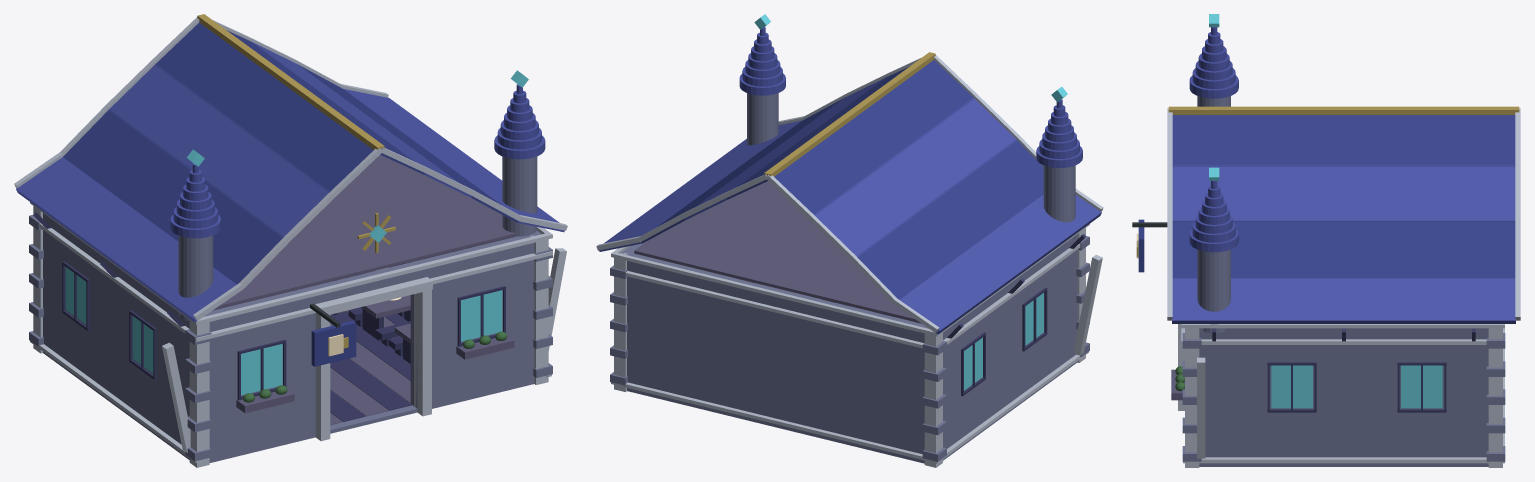
File: Tavern.glb
3 renders of one model, left to right at view 1: azimuth 30°, elevation 25°; view 2: azimuth 150°, elevation 25°; view 3: azimuth 270°, elevation 25°, orthographic. The views are drawn at different scales.
Visible parts, largest first — view 1: Tavern_095_Ceiling, Tavern_002_Side, Tavern_257_ProfileRoof, Tavern_254_ProfileRoof, Tavern_040_FrontWing, Tavern_260_ProfileRoof, Tavern_003_FrontWing, Tavern_263_ProfileRoof, Tavern_275_ProfileRoof, Tavern_085_FrontCourse, Tavern_290_ObservatoryTurret, Tavern_278_Ridge (+32 smaller); view 2: Tavern_001_Rear, Tavern_095_Ceiling, Tavern_002_Side, Tavern_257_ProfileRoof, Tavern_260_ProfileRoof, Tavern_254_ProfileRoof, Tavern_263_ProfileRoof, Tavern_275_ProfileRoof, Tavern_086_RearCourse, Tavern_078_RearCourse, Tavern_278_Ridge, Tavern_082_RearCourse (+13 smaller); view 3: Tavern_039_Side, Tavern_269_ProfileRoof, Tavern_272_ProfileRoof, Tavern_266_ProfileRoof, Tavern_275_ProfileRoof, Tavern_278_Ridge, Tavern_080_SideCourse, Tavern_290_ObservatoryTurret, Tavern_054_SideWindow, Tavern_060_SideWindow, Tavern_084_SideCourse, Tavern_088_SideCourse (+10 smaller).
Boxes of the visible parts, box(x1,y1,x2,y2) form: Tavern_095_Ceiling: box(213, 154, 516, 310); Tavern_002_Side: box(43, 214, 206, 456); Tavern_257_ProfileRoof: box(109, 64, 329, 237); Tavern_254_ProfileRoof: box(155, 22, 373, 192); Tavern_040_FrontWing: box(410, 231, 541, 408); Tavern_260_ProfileRoof: box(63, 109, 283, 284); Tavern_003_FrontWing: box(205, 285, 324, 460); Tavern_263_ProfileRoof: box(16, 157, 236, 322); Tavern_275_ProfileRoof: box(343, 89, 564, 232); Tavern_085_FrontCourse: box(193, 233, 552, 324); Tavern_290_ObservatoryTurret: box(502, 156, 537, 238); Tavern_278_Ridge: box(197, 14, 384, 149); Tavern_001_Rear: box(620, 251, 928, 463); Tavern_095_Ceiling: box(634, 181, 920, 323); Tavern_002_Side: box(943, 235, 1076, 459); Tavern_257_ProfileRoof: box(814, 98, 1016, 256); Tavern_260_ProfileRoof: box(856, 139, 1043, 299); Tavern_254_ProfileRoof: box(774, 60, 974, 215); Tavern_263_ProfileRoof: box(900, 194, 1101, 334); Tavern_275_ProfileRoof: box(599, 120, 801, 251); Tavern_086_RearCourse: box(611, 252, 939, 336); Tavern_078_RearCourse: box(611, 382, 937, 463); Tavern_278_Ridge: box(764, 52, 935, 176); Tavern_082_RearCourse: box(625, 271, 923, 348); Tavern_039_Side: box(1199, 328, 1488, 466); Tavern_269_ProfileRoof: box(1172, 165, 1515, 221); Tavern_272_ProfileRoof: box(1172, 220, 1515, 278); Tavern_266_ProfileRoof: box(1172, 115, 1515, 166); Tavern_275_ProfileRoof: box(1172, 278, 1515, 323); Tavern_278_Ridge: box(1168, 106, 1519, 114); Tavern_080_SideCourse: box(1183, 457, 1504, 463); Tavern_290_ObservatoryTurret: box(1197, 249, 1230, 332); Tavern_054_SideWindow: box(1401, 365, 1442, 408); Tavern_060_SideWindow: box(1271, 365, 1312, 408); Tavern_084_SideCourse: box(1201, 339, 1486, 344); Tavern_088_SideCourse: box(1183, 324, 1504, 328).
Bounding box in the file's own units: 34.64 × 24.97 × 29.9.
